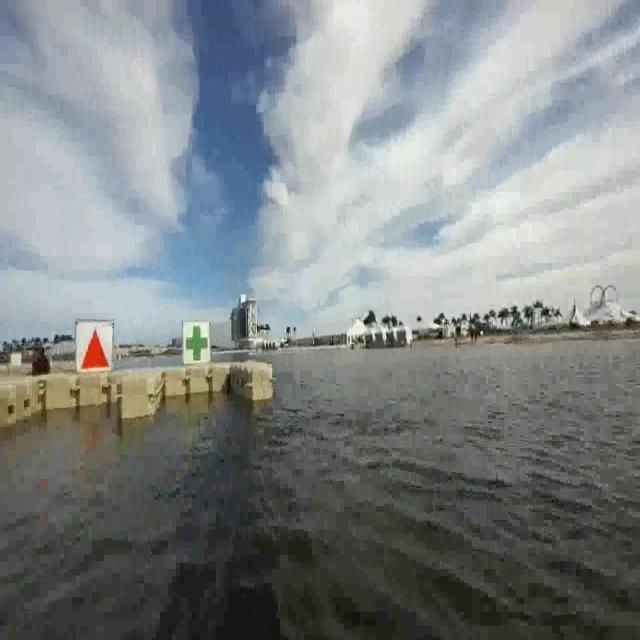blue-cross: (182, 320, 211, 366)
red-dot: (78, 323, 112, 372)
